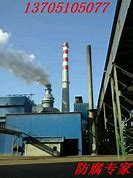smoke: (1, 47, 50, 84)
